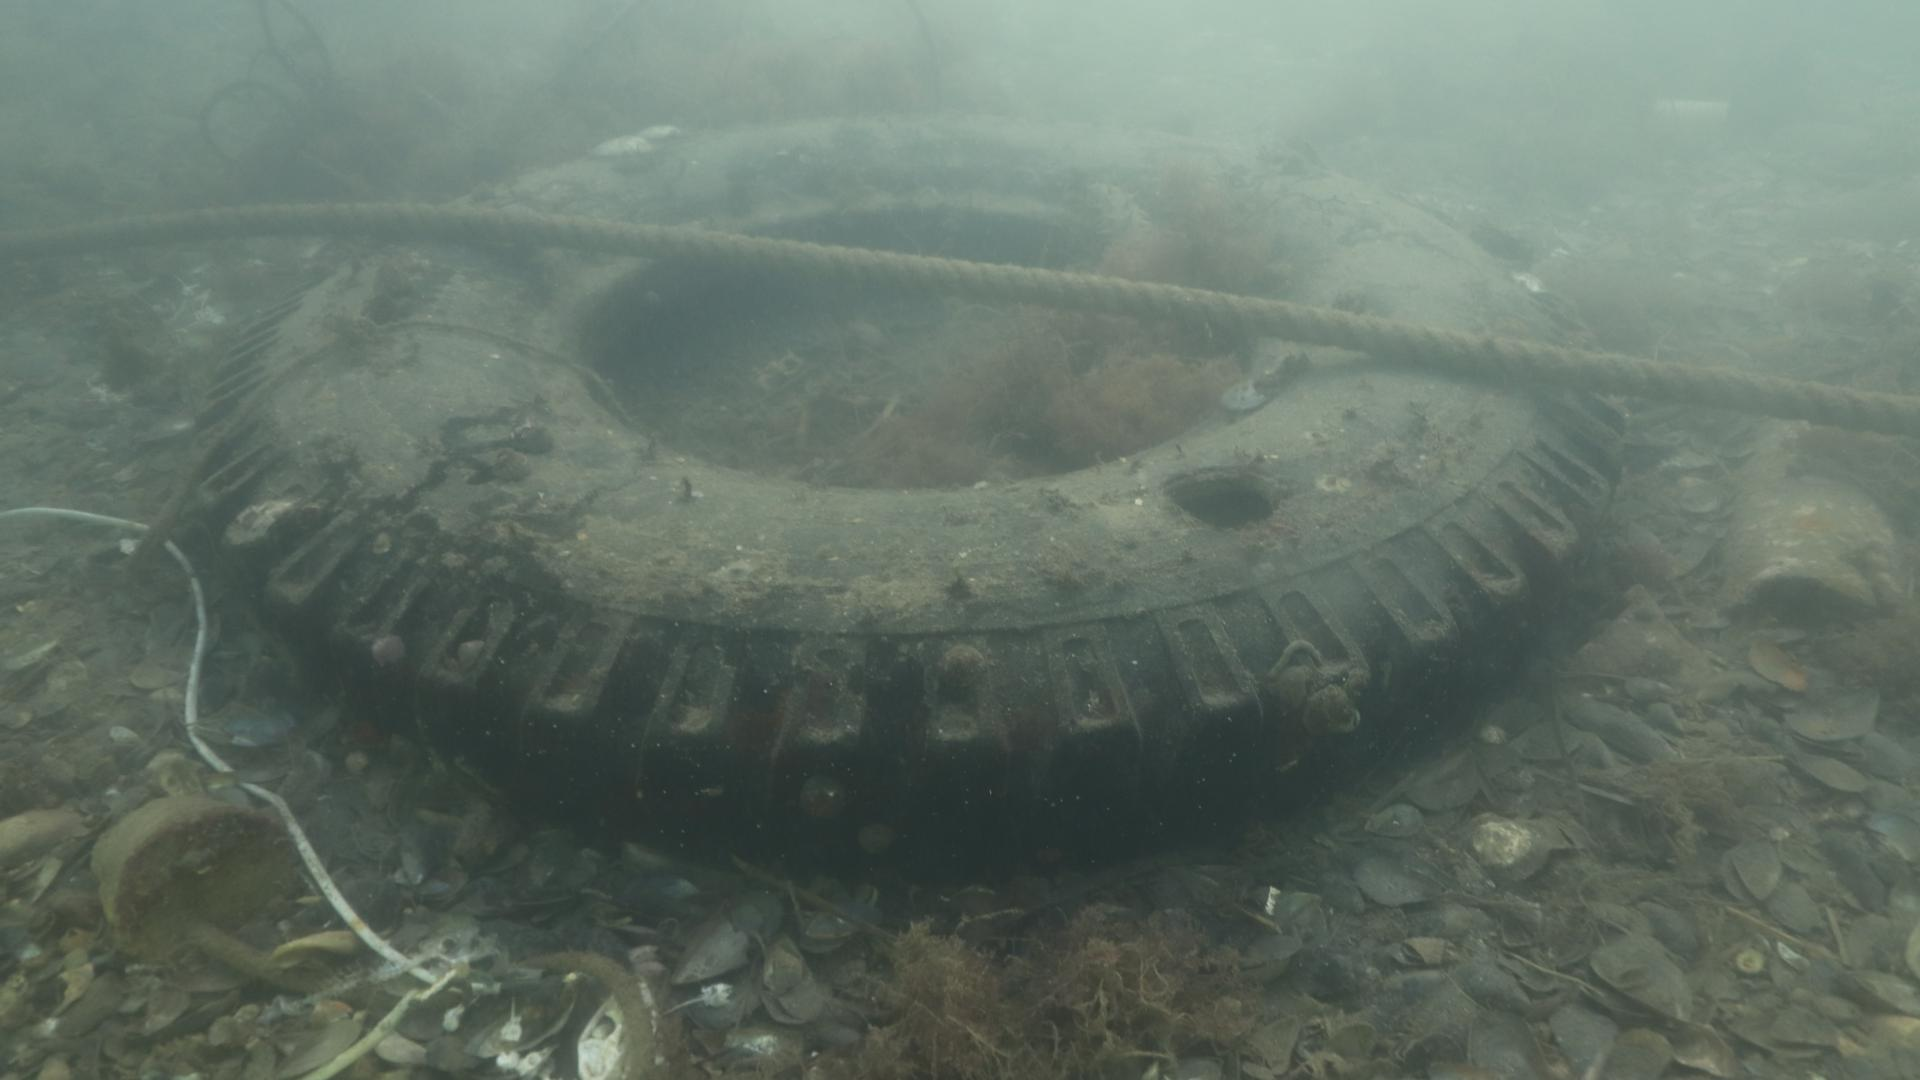rope: (0, 191, 1920, 434)
tire: (189, 112, 1629, 890)
